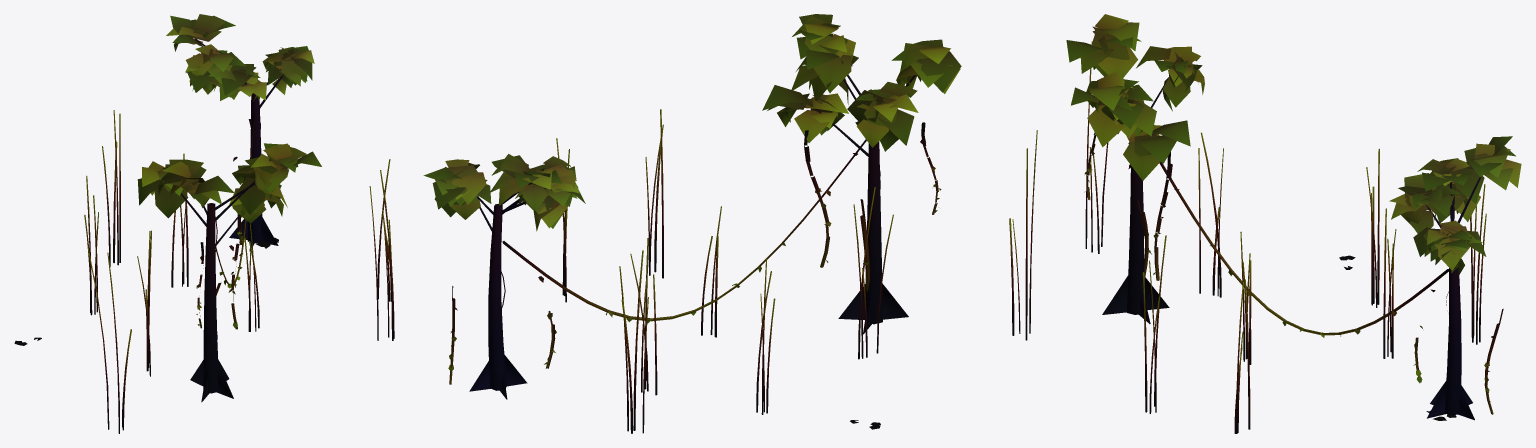
The model's file is patch_thicket_far.glb.
The picture shows the model from 3 angles, left to right: view 1: azimuth 30°, elevation 25°; view 2: azimuth 150°, elevation 25°; view 3: azimuth 270°, elevation 25°; orthographic projection. The views are drawn at different scales.
Parts seen in each view (by area): view 1: patch_thicket_far; view 2: patch_thicket_far; view 3: patch_thicket_far.
Boxes of the visible parts, box(x1,y1,x2,y2) form: patch_thicket_far: box(14, 14, 394, 433); patch_thicket_far: box(423, 14, 1037, 433); patch_thicket_far: box(1066, 14, 1521, 433).
Size of the model in its own units: 16.13 by 9.91 by 15.26.
1 material, 1 textured.
